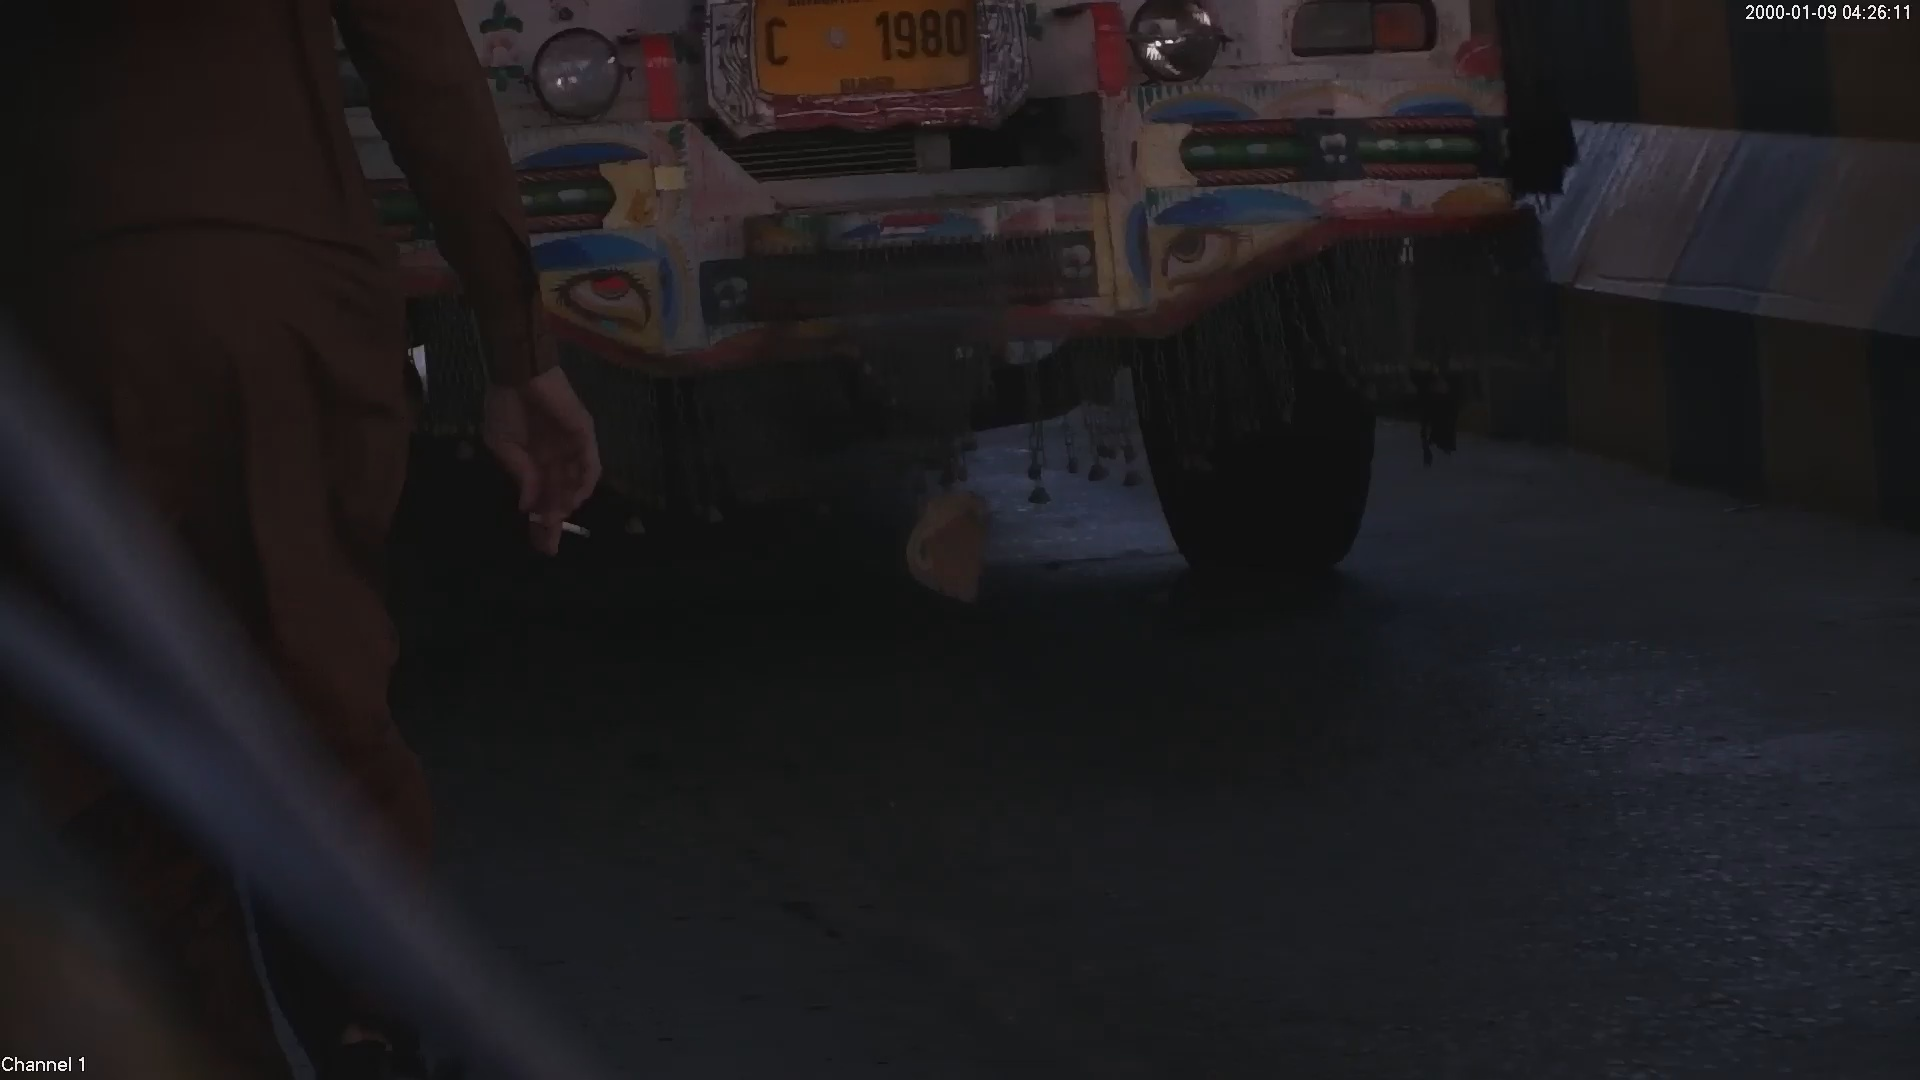Number_Plate: (752, 1, 1006, 118)
